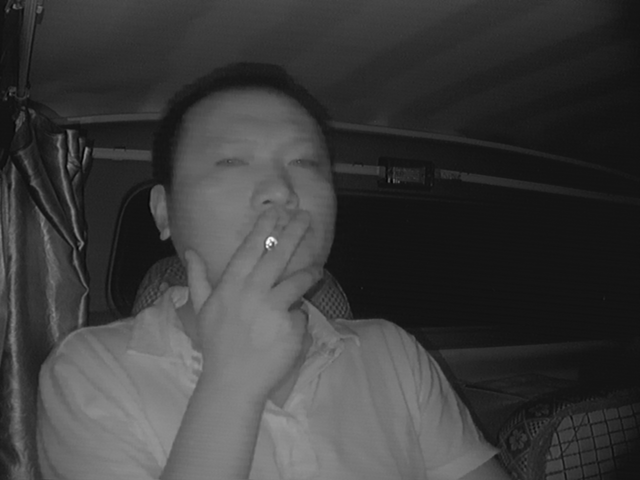hand: (233, 214, 321, 319)
